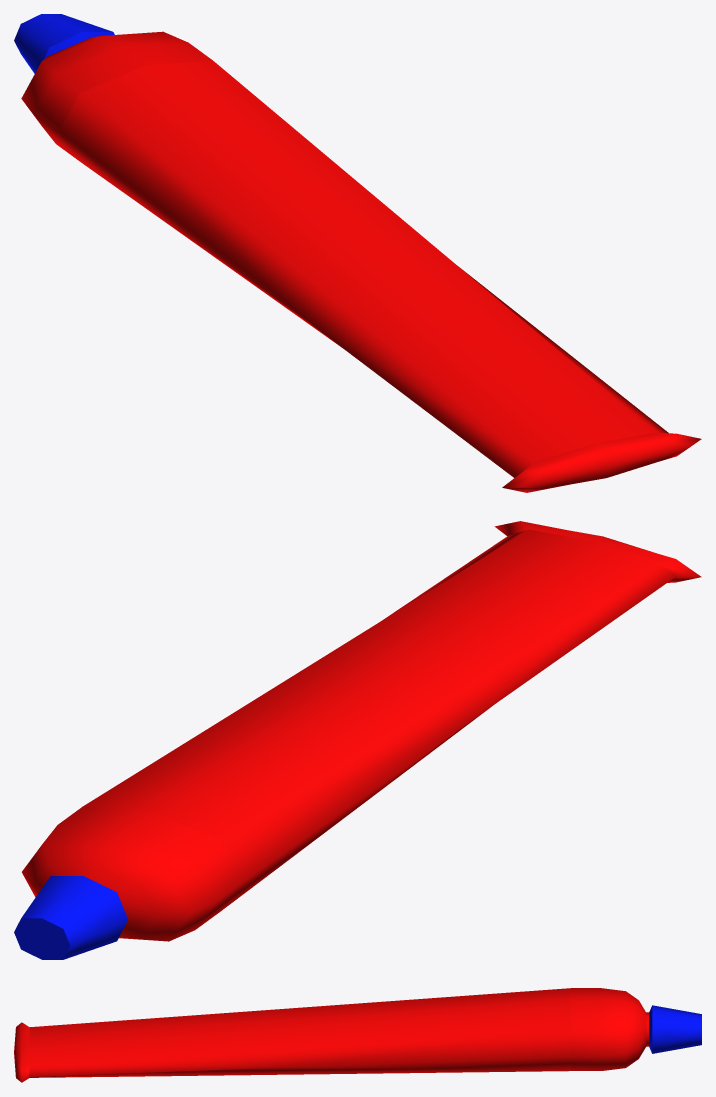
File: Toothpaste.fbx
The picture shows the model from 3 angles, top to bottom: view 1: azimuth 30°, elevation 25°; view 2: azimuth 150°, elevation 25°; view 3: azimuth 270°, elevation 25°; orthographic projection. The views are drawn at different scales.
Visible parts, largest first — view 1: Toothpaste; view 2: Toothpaste; view 3: Toothpaste.
Part boxes in pixels (bbox=[...]): Toothpaste: bbox=[14, 14, 701, 492]; Toothpaste: bbox=[14, 521, 701, 959]; Toothpaste: bbox=[14, 988, 701, 1082].
Bounding box in the file's own units: 3.26 × 1.43 × 15.6.
